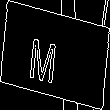M_N: (39, 26, 71, 84)
